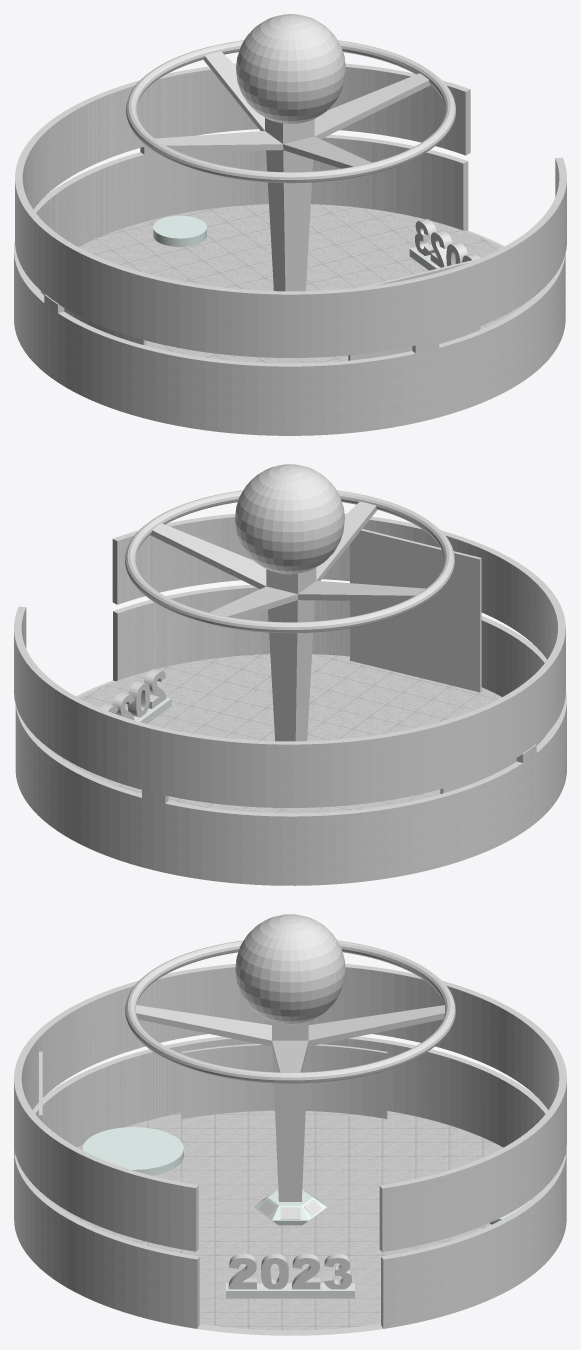
3 renders of one model, top to bottom at view 1: azimuth 30°, elevation 25°; view 2: azimuth 150°, elevation 25°; view 3: azimuth 270°, elevation 25°, orthographic.
Visible parts, largest first — view 1: 场馆主体, 场馆墙, 地面, 造型01, 顶部球, 顶部环, 2023, 机器人台1, 屏幕1; view 2: 场馆主体, 场馆墙, 地面, 屏幕1, 造型01, 顶部球, 顶部环, 2023; view 3: 场馆墙, 场馆主体, 地面, 造型01, 曲面屏, 顶部球, 顶部环, 机器人台2, 2023, 2023台子, 操作台, 操作屏.
Boxes of the visible parts, left/top/right/bottom form: 场馆主体: left=14, top=134, right=565, bottom=435; 场馆墙: left=15, top=63, right=566, bottom=357; 地面: left=34, top=204, right=534, bottom=363; 造型01: left=155, top=51, right=430, bottom=291; 顶部球: left=236, top=14, right=345, bottom=124; 顶部环: left=126, top=40, right=455, bottom=183; 2023: left=415, top=219, right=480, bottom=267; 机器人台1: left=153, top=215, right=206, bottom=246; 屏幕1: left=348, top=258, right=480, bottom=360; 场馆主体: left=15, top=584, right=566, bottom=885; 场馆墙: left=14, top=513, right=565, bottom=807; 地面: left=47, top=654, right=546, bottom=813; 屏幕1: left=350, top=529, right=481, bottom=692; 造型01: left=150, top=501, right=425, bottom=741; 顶部球: left=235, top=464, right=344, bottom=574; 顶部环: left=125, top=490, right=454, bottom=633; 2023: left=100, top=669, right=166, bottom=720; 场馆墙: left=14, top=964, right=566, bottom=1251; 场馆主体: left=14, top=1036, right=566, bottom=1335; 地面: left=45, top=1110, right=533, bottom=1330; 造型01: left=136, top=1005, right=444, bottom=1201; 曲面屏: left=181, top=1044, right=387, bottom=1118; 顶部球: left=235, top=914, right=345, bottom=1024; 顶部环: left=125, top=940, right=455, bottom=1083; 机器人台2: left=82, top=1127, right=183, bottom=1175; 2023: left=228, top=1254, right=351, bottom=1289; 2023台子: left=226, top=1283, right=354, bottom=1298; 操作台: left=254, top=1189, right=326, bottom=1225; 操作屏: left=258, top=1190, right=321, bottom=1219.
Size of the model in its own units: 30 by 17.99 by 30.02.
6 materials, 3 textured.
